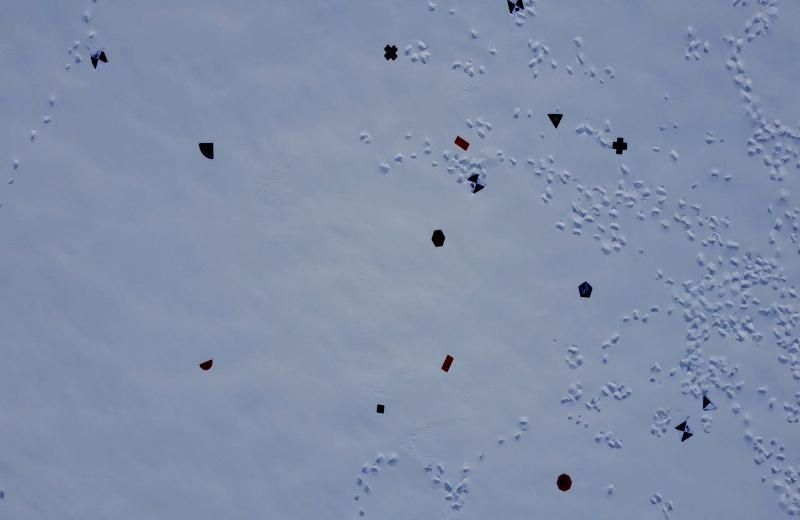Cross: (612, 136, 628, 156), (383, 43, 399, 62)
Hexagon: (432, 228, 445, 248)
Octagon: (556, 474, 573, 493)
Pentagon: (576, 281, 594, 299)
Quarter Circle: (198, 141, 216, 160)
Rectangle: (454, 134, 470, 152), (440, 354, 454, 374)
Semi Circle: (199, 359, 214, 371)
Square: (376, 404, 385, 414)
Triangle: (547, 112, 565, 131)
